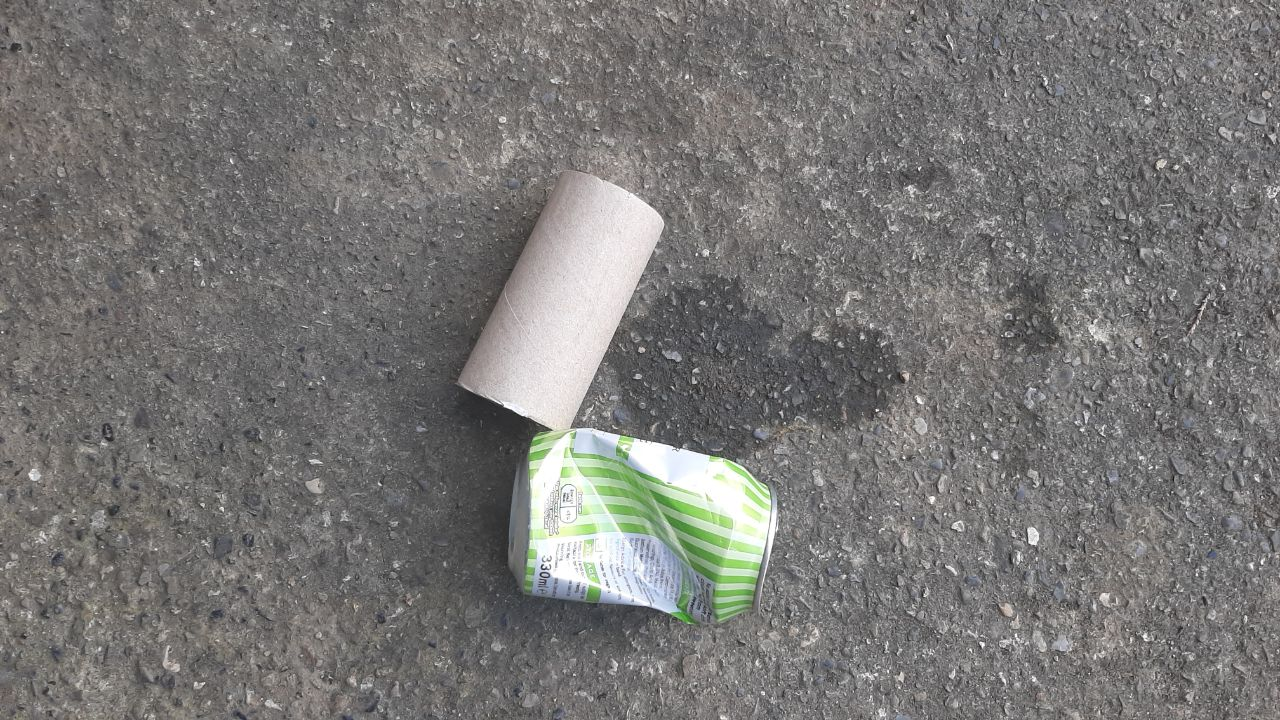Can: (495, 415, 791, 636)
